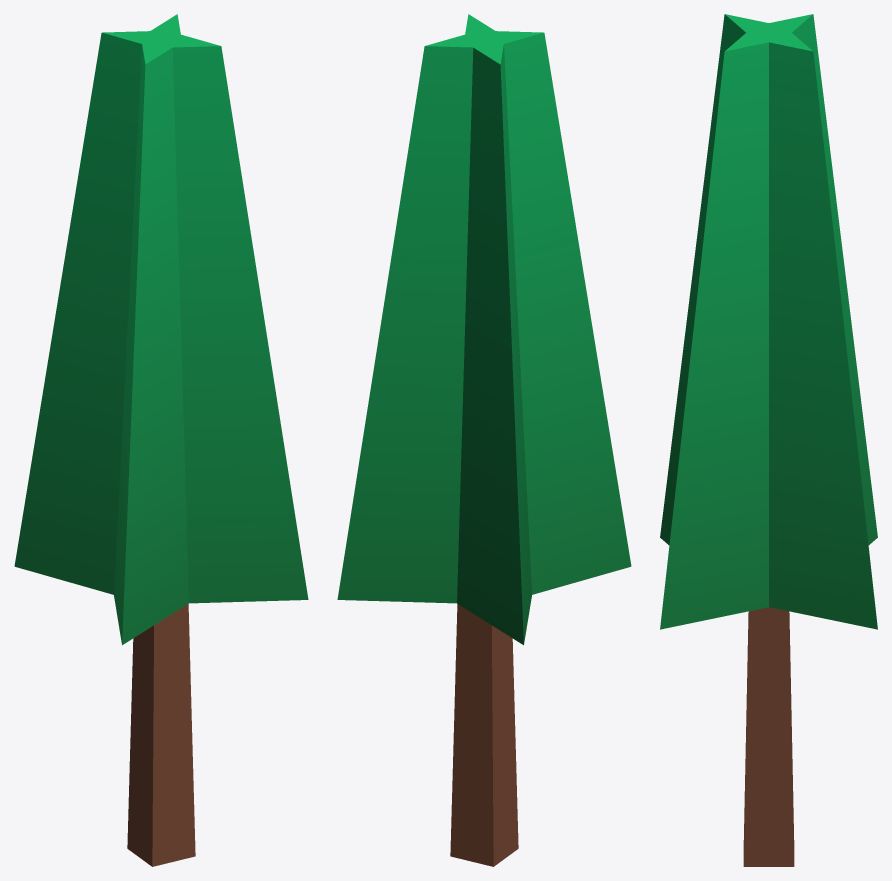
File: Tree_27_gradient_green_vc.fbx
3 views of the same model, side by side, from view 1: azimuth 30°, elevation 25°; view 2: azimuth 150°, elevation 25°; view 3: azimuth 270°, elevation 25° (orthographic).
Parts seen in each view (by area): view 1: Tree_27_gradient_green_vc; view 2: Tree_27_gradient_green_vc; view 3: Tree_27_gradient_green_vc.
Boxes of the visible parts, bbox=[...] form: Tree_27_gradient_green_vc: bbox=[14, 14, 308, 866]; Tree_27_gradient_green_vc: bbox=[337, 14, 631, 866]; Tree_27_gradient_green_vc: bbox=[660, 14, 877, 866].
Bounding box in the file's own units: 63.19 × 263 × 63.19.
